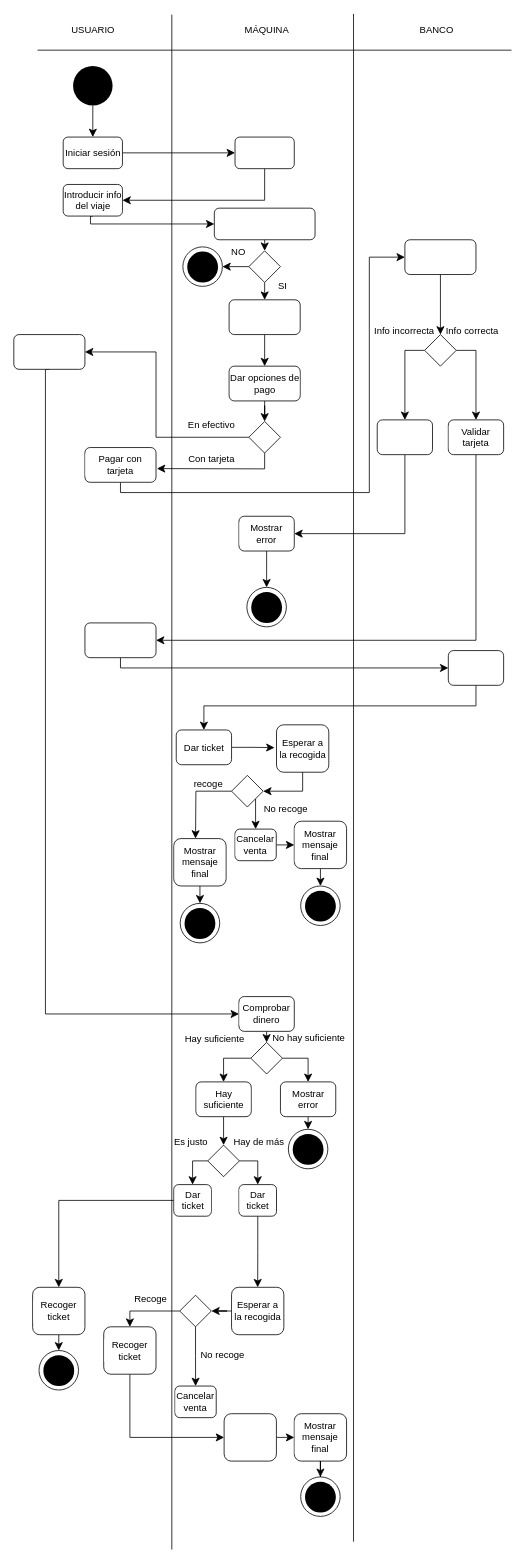
This 526x1564 diagram has some shape labels left out. The shapes that lost their labels are listed below. From the top down, each one's centre as x and y in pixels, then its label:
At (264,152): "Pedir info del viaje".
At (264,223): "Comprobar disponibilidad del viaje".
At (440,257): "Comprobar tarjeta".
At (264,317): "Calcular monto a pagar".
At (49,351): "Introducir dinero en la máquina".
At (404,437): "Dar error".
At (120,640): "Confirmar pago".
At (476,667): "Realizar Pago".
At (249,1437): "Dar cambios".
